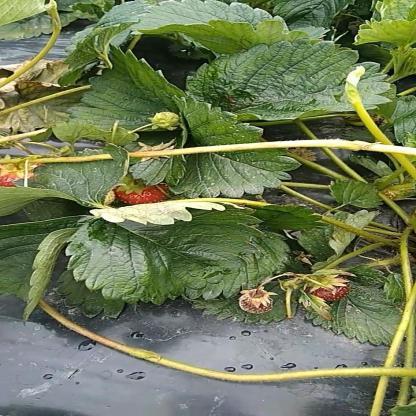ripe: (2, 155, 53, 193), (115, 180, 166, 206), (237, 294, 277, 314), (317, 282, 349, 300)
unripe: (148, 110, 183, 130)
